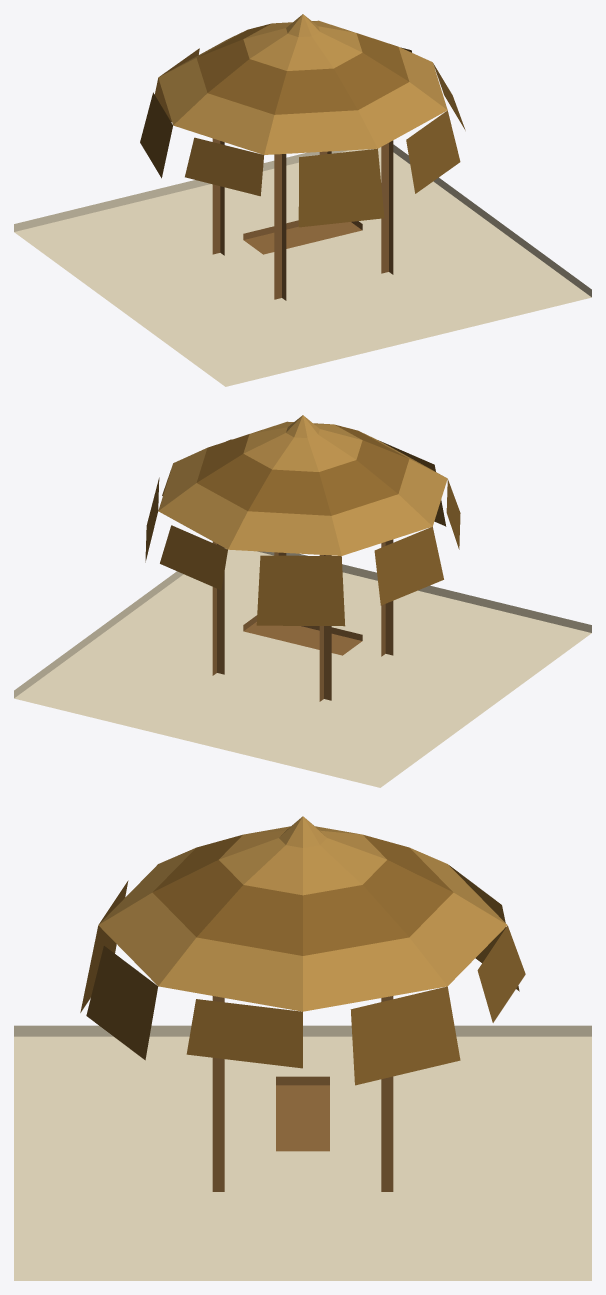
Rendered from palapa_m23_m13.glb.
3 renders of one model, top to bottom at view 1: azimuth 30°, elevation 25°; view 2: azimuth 150°, elevation 25°; view 3: azimuth 270°, elevation 25°, orthographic. The views are drawn at different scales.
Visible parts, largest first — view 1: palapa_m23_m13_lod0; view 2: palapa_m23_m13_lod0; view 3: palapa_m23_m13_lod0.
Part boxes in pixels (<box>): palapa_m23_m13_lod0: <box>14,14,591,386</box>; palapa_m23_m13_lod0: <box>14,415,591,787</box>; palapa_m23_m13_lod0: <box>14,816,591,1280</box>.
Size of what is drawn, in the model's own units: 4.8 by 3.15 by 4.8.
